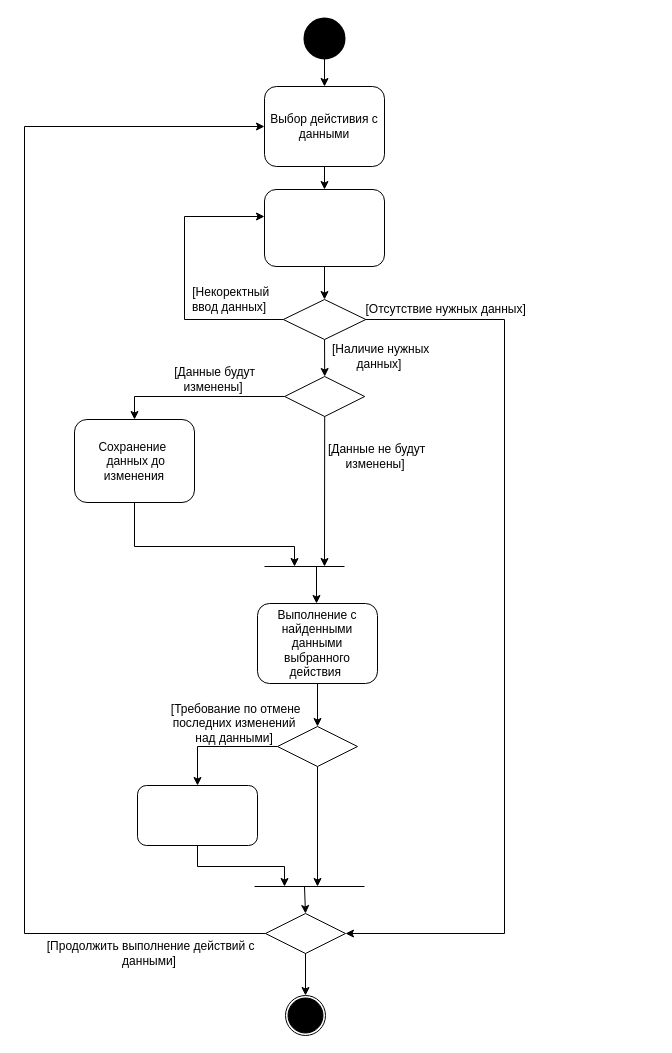
This 672x1053 diagram has some shape labels left out. The centre of each missing label's shape, as x and y in pixels:
"Ввод данных" belongs at (x=324, y=227).
"Отмена последних изменнений над данными" belongs at (x=197, y=815).
